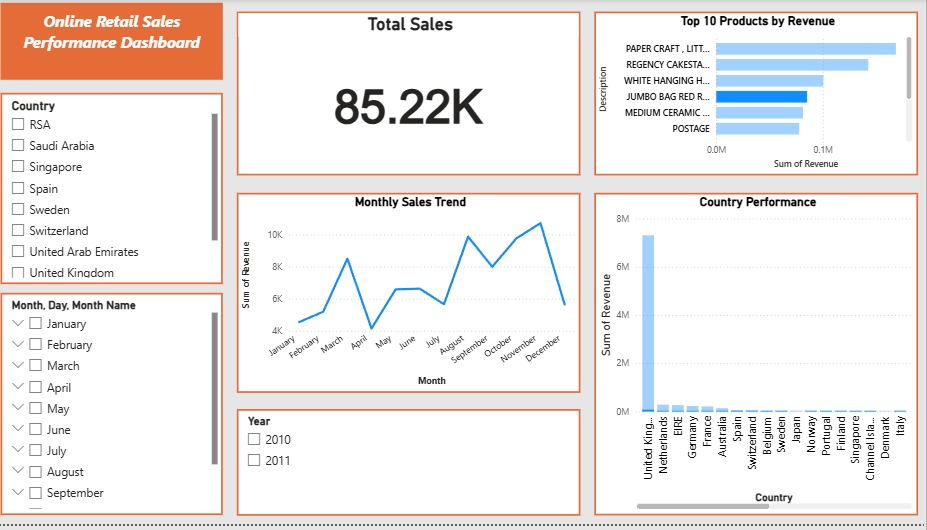

This screenshot's page, from the dashboard's own definition file:
{"tool":"powerbi","page":{"name":"Page 1","canvas":[1280,720],"ordinal":0},"visuals":[{"type":"lineChart","title":"Monthly Sales Trend","fields":{"Y":["Sum(online retail.Revenue)"],"Category":["online retail.InvoiceDate.Variation.Date Hierarchy.Month"]},"box":[333.6,265.5,471.5,274],"z":1000},{"type":"barChart","title":"Top 10 Products by Revenue","fields":{"Category":["online retail.Description"],"Y":["Sum(online retail.Revenue)"]},"box":[823.8,17,444.3,224.7],"z":2000},{"type":"clusteredColumnChart","title":"Country Performance","fields":{"Category":["online retail.Country"],"Y":["Sum(online retail.Revenue)"]},"box":[823.8,265.5,444.3,442.6],"z":3000},{"type":"slicer","fields":{"Values":["online retail.Country"]},"box":[10.2,129.4,304.7,262.1],"z":4000},{"type":"slicer","fields":{"Values":["online retail.InvoiceDate.Variation.Date Hierarchy.Year"]},"box":[333.6,561.7,471.5,146.4],"z":5000},{"type":"slicer","fields":{"Values":["online retail.InvoiceDate.Variation.Date Hierarchy.Month","online retail.InvoiceDate.Variation.Date Hierarchy.Day","online retail.Month Name"]},"box":[10.2,403.4,304.7,304.7],"z":6000},{"type":"textbox","box":[10.2,5.1,304.7,105.5],"z":7000},{"type":"card","title":"Total Sales","fields":{"Values":["Sum(online retail.Revenue)"]},"box":[334.1,17.1,471.2,224.5],"z":7001}]}

Visuals, with their boxes in screenshot pixels (x1, y1, x2, y2), scaled from the page's 1280x720 canvas onto the 927x530 screenshot:
"Monthly Sales Trend" lineChart: 242 195 583 397
"Top 10 Products by Revenue" barChart: 597 13 918 178
"Country Performance" clusteredColumnChart: 597 195 918 521
slicer - online retail.Country: 7 95 228 288
slicer - online retail.InvoiceDate.Variation.Date Hierarchy.Year: 242 413 583 521
slicer - online retail.InvoiceDate.Variation.Date Hierarchy.Month x online retail.InvoiceDate.Variation.Date Hierarchy.Day: 7 297 228 521
textbox: 7 4 228 81
"Total Sales" card: 242 13 583 178
